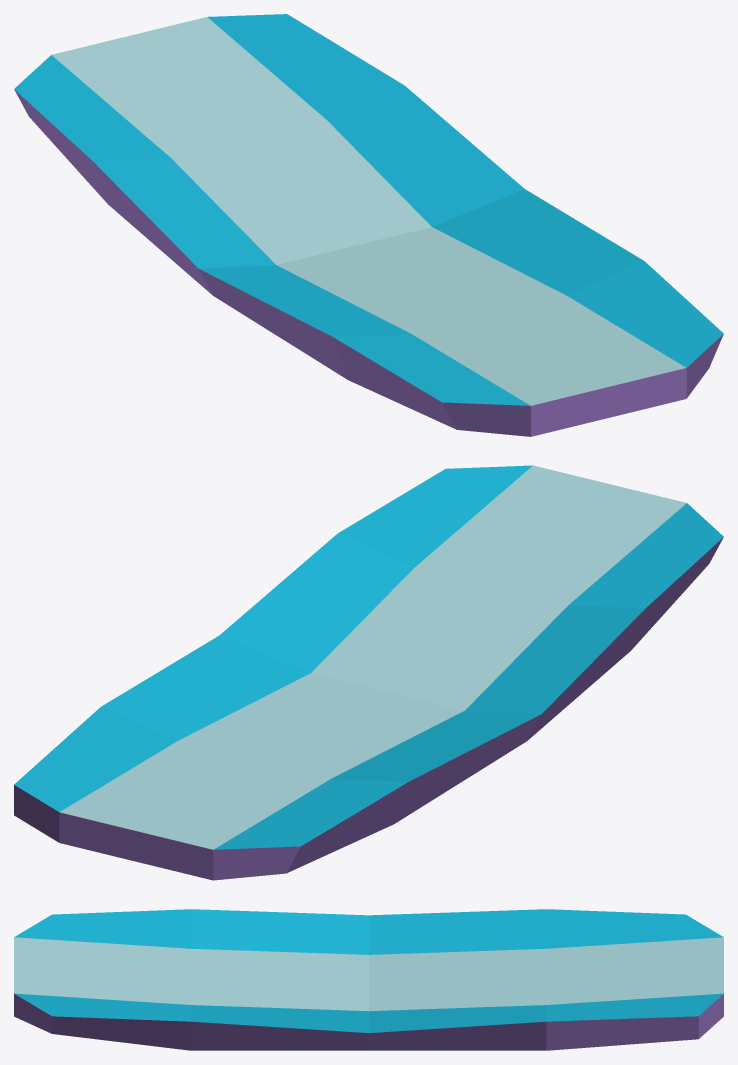
Rendered from hoverboard.fbx.
3 views of the same model, one above another, from view 1: azimuth 30°, elevation 25°; view 2: azimuth 150°, elevation 25°; view 3: azimuth 270°, elevation 25° (orthographic). The views are drawn at different scales.
Visible parts, largest first — view 1: mesh_1874284659; view 2: mesh_1874284659; view 3: mesh_1874284659.
Boxes of the visible parts, <box> form: mesh_1874284659: <box>14,14,723,436</box>; mesh_1874284659: <box>14,465,723,880</box>; mesh_1874284659: <box>14,909,723,1050</box>.
Size of the model in its own units: 22 by 3 by 56.
